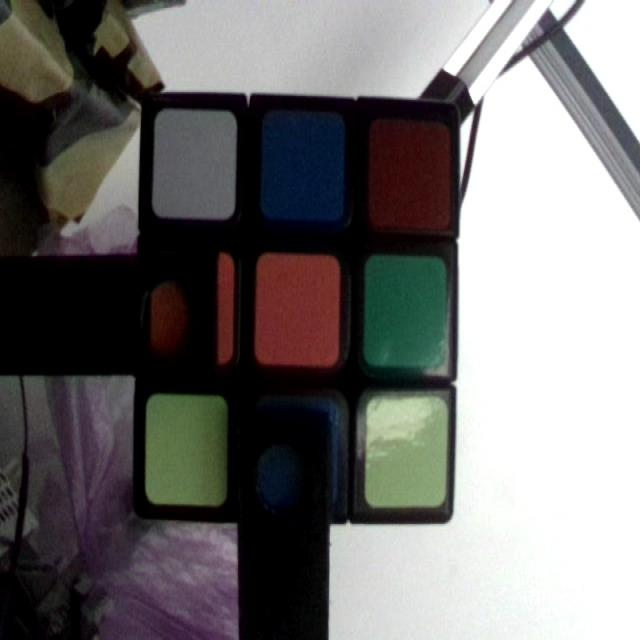b: (259, 401, 337, 516), (263, 110, 342, 216)
g: (365, 255, 445, 362)
o: (258, 252, 341, 364), (148, 250, 232, 359)
r: (368, 122, 448, 226)
w: (159, 113, 236, 214)
y: (147, 395, 228, 507), (366, 400, 448, 506)
